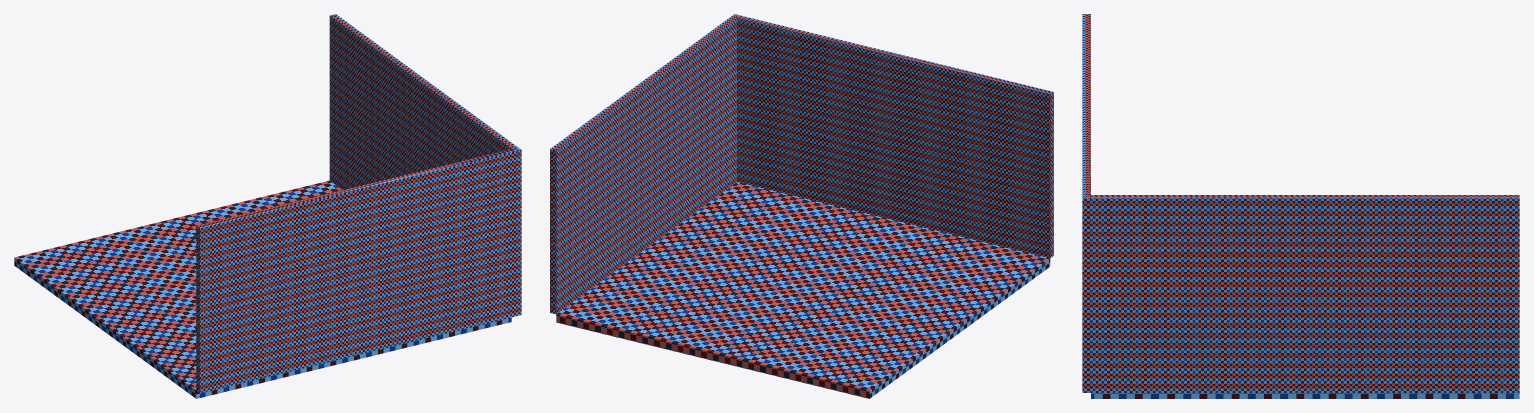
File: catWalk_Turn_rail_01.fbx
3 renders of one model, left to right at view 1: azimuth 30°, elevation 25°; view 2: azimuth 150°, elevation 25°; view 3: azimuth 270°, elevation 25°, orthographic. The views are drawn at different scales.
Visible parts, largest first — view 1: catWalk_Turn_rail_01; view 2: catWalk_Turn_rail_01; view 3: catWalk_Turn_rail_01.
Boxes of the visible parts, x1=… form: catWalk_Turn_rail_01: x1=14, y1=14, x2=521, y2=398; catWalk_Turn_rail_01: x1=550, y1=14, x2=1053, y2=398; catWalk_Turn_rail_01: x1=1082, y1=14, x2=1519, y2=398.
Size of the model in its own units: 204 by 105 by 204.
Materials: 1 (1 with a texture image).
